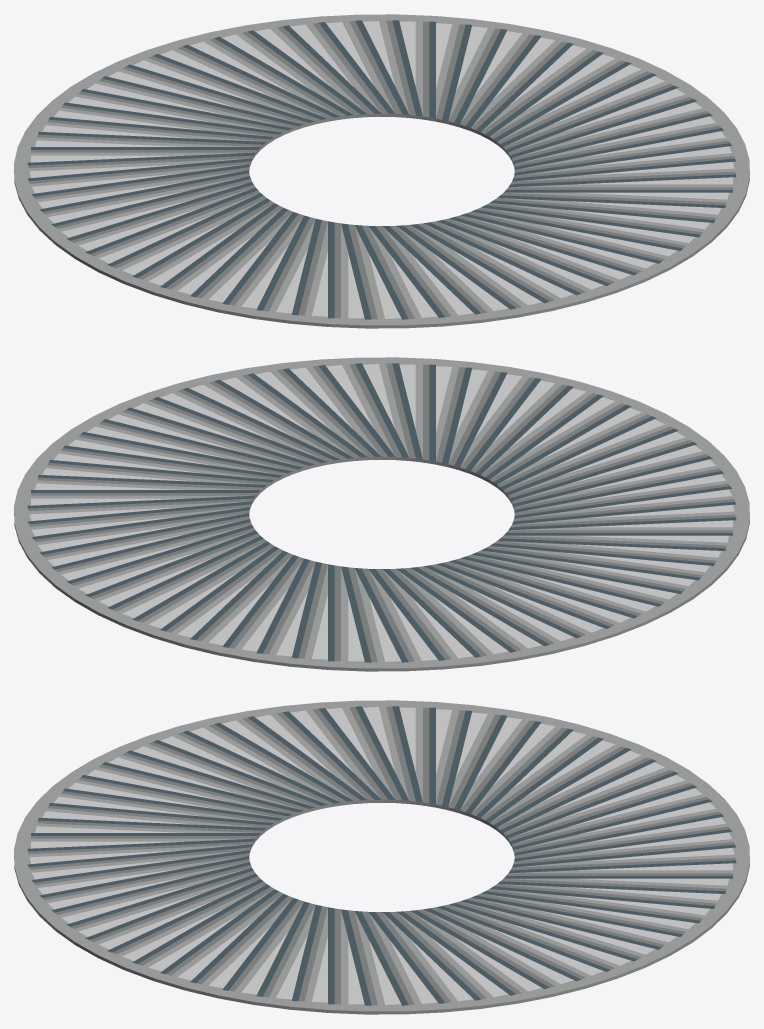
3 renders of one model, top to bottom at view 1: azimuth 30°, elevation 25°; view 2: azimuth 150°, elevation 25°; view 3: azimuth 270°, elevation 25°, orthographic.
Parts seen in each view (by area): view 1: world; view 2: world; view 3: world.
Part boxes in pixels (x1,y1,x2,y2): world: [14, 14, 749, 328]; world: [14, 357, 749, 671]; world: [14, 700, 749, 1014].
Bounding box in the file's own units: 0.0218 × 0.0001 × 0.0218.
